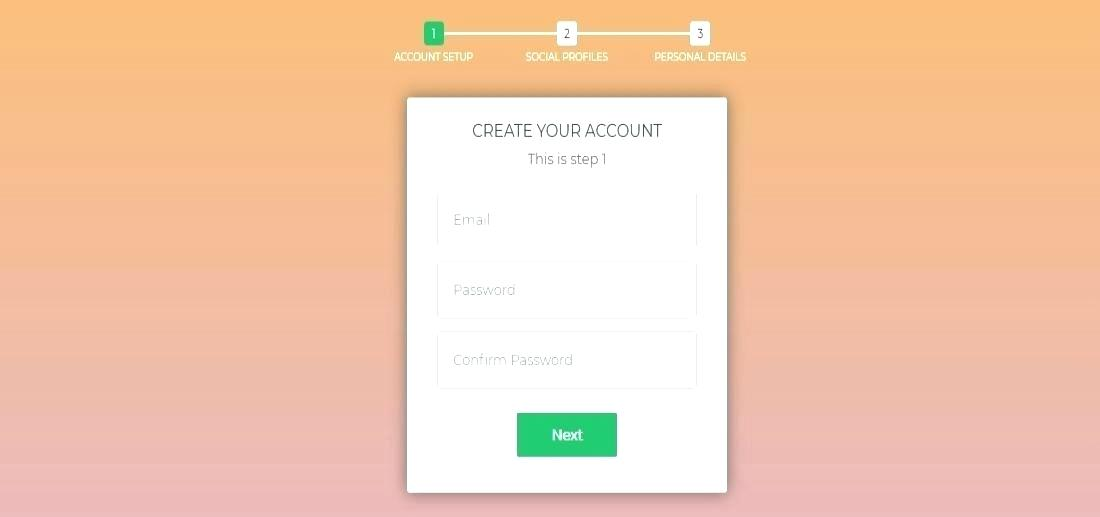button: (503, 408, 630, 462)
textbox: (426, 325, 704, 399)
